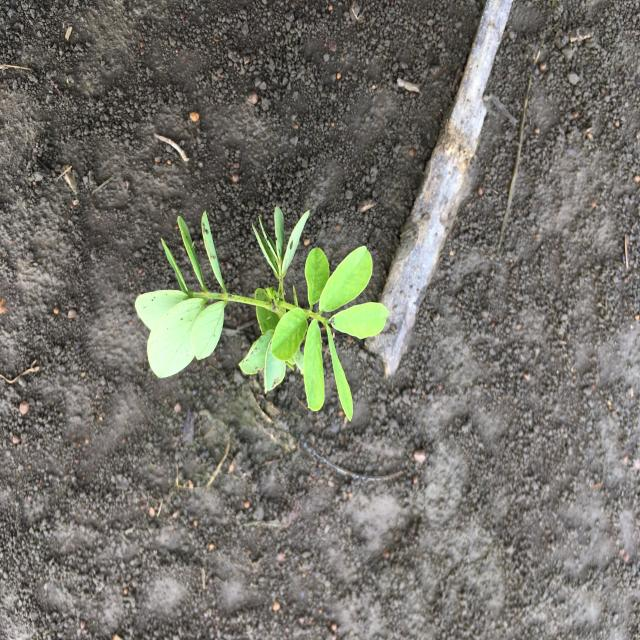Sicklepod: (133, 205, 391, 423)
